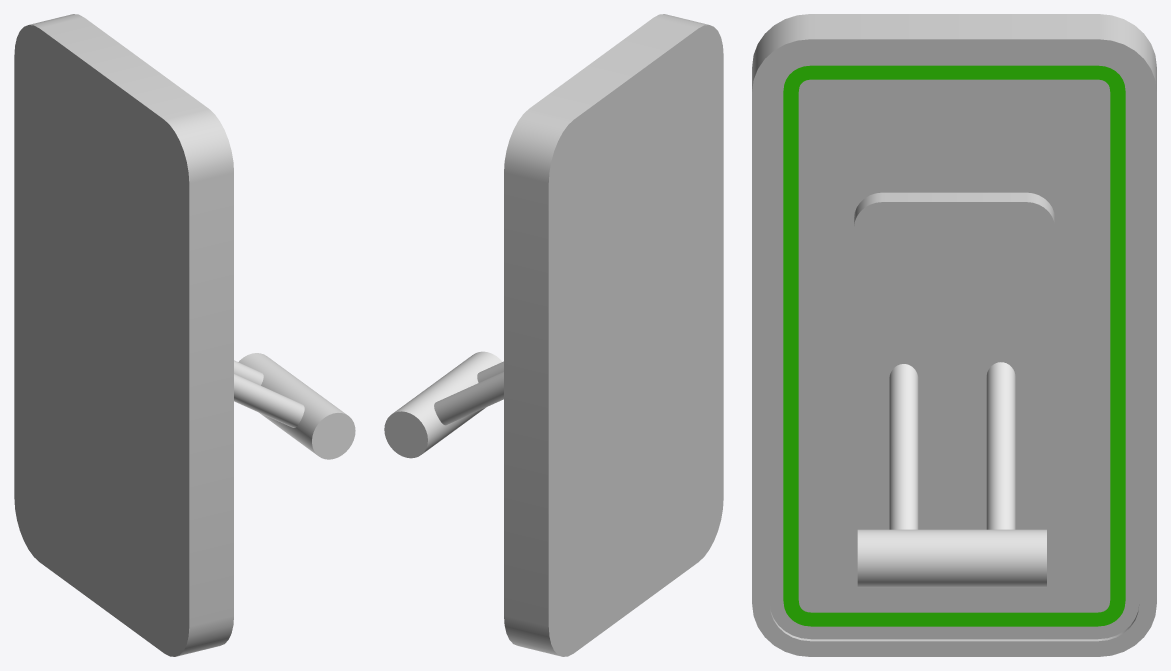
The model's file is Schalter.glb.
3 views of the same model, side by side, from view 1: azimuth 30°, elevation 25°; view 2: azimuth 150°, elevation 25°; view 3: azimuth 270°, elevation 25° (orthographic). The views are drawn at different scales.
Parts seen in each view (by area): view 1: Cube, Cylinder; view 2: Cube, Cylinder; view 3: Cube, Cylinder.
Boxes of the visible parts, <box> form: Cube: <box>14,14,233,656</box>; Cylinder: <box>234,353,355,459</box>; Cube: <box>504,14,723,656</box>; Cylinder: <box>384,351,503,458</box>; Cube: <box>752,14,1156,656</box>; Cylinder: <box>857,362,1046,587</box>.
Size of the model in its own units: 0.2386 by 0.5745 by 0.3411.
